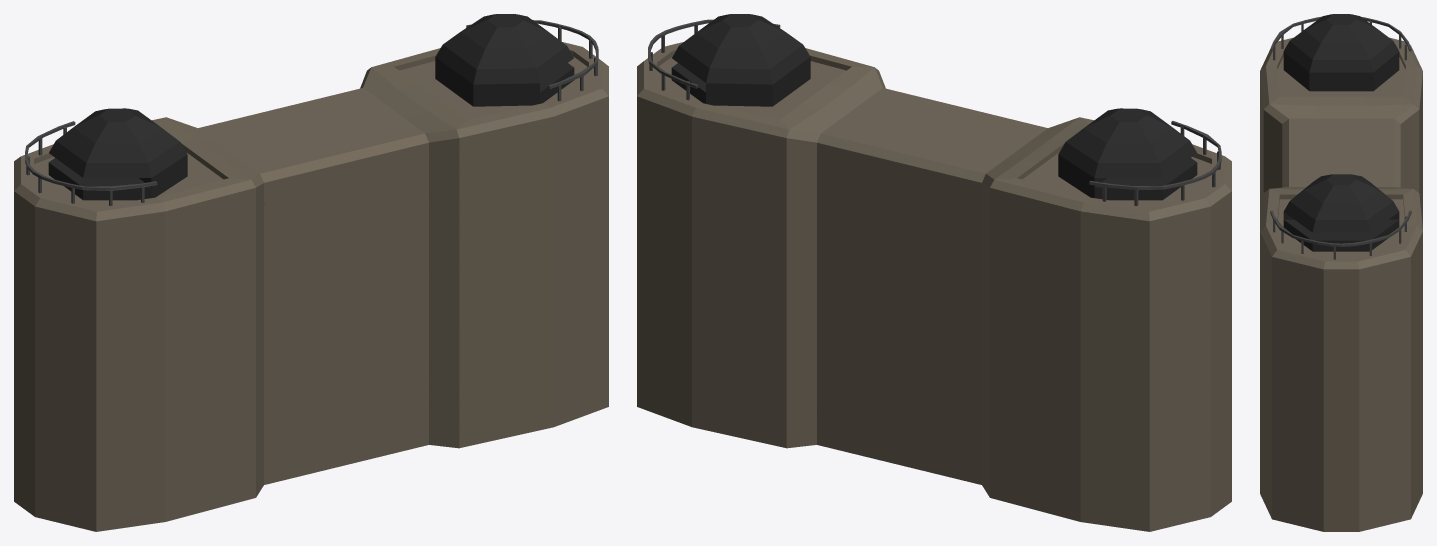
Rendered from bunker_3.fbx.
3 views of the same model, side by side, from view 1: azimuth 30°, elevation 25°; view 2: azimuth 150°, elevation 25°; view 3: azimuth 270°, elevation 25° (orthographic). The views are drawn at different scales.
Visible parts, largest first — view 1: bunker_3; view 2: bunker_3; view 3: bunker_3.
Boxes of the visible parts, box(x1,y1,x2,y2) form: bunker_3: box(14, 14, 608, 531); bunker_3: box(637, 14, 1231, 531); bunker_3: box(1260, 14, 1422, 531).
Bounding box in the file's own units: 1521 × 941 × 443.
Materials: 3 (2 with a texture image).
